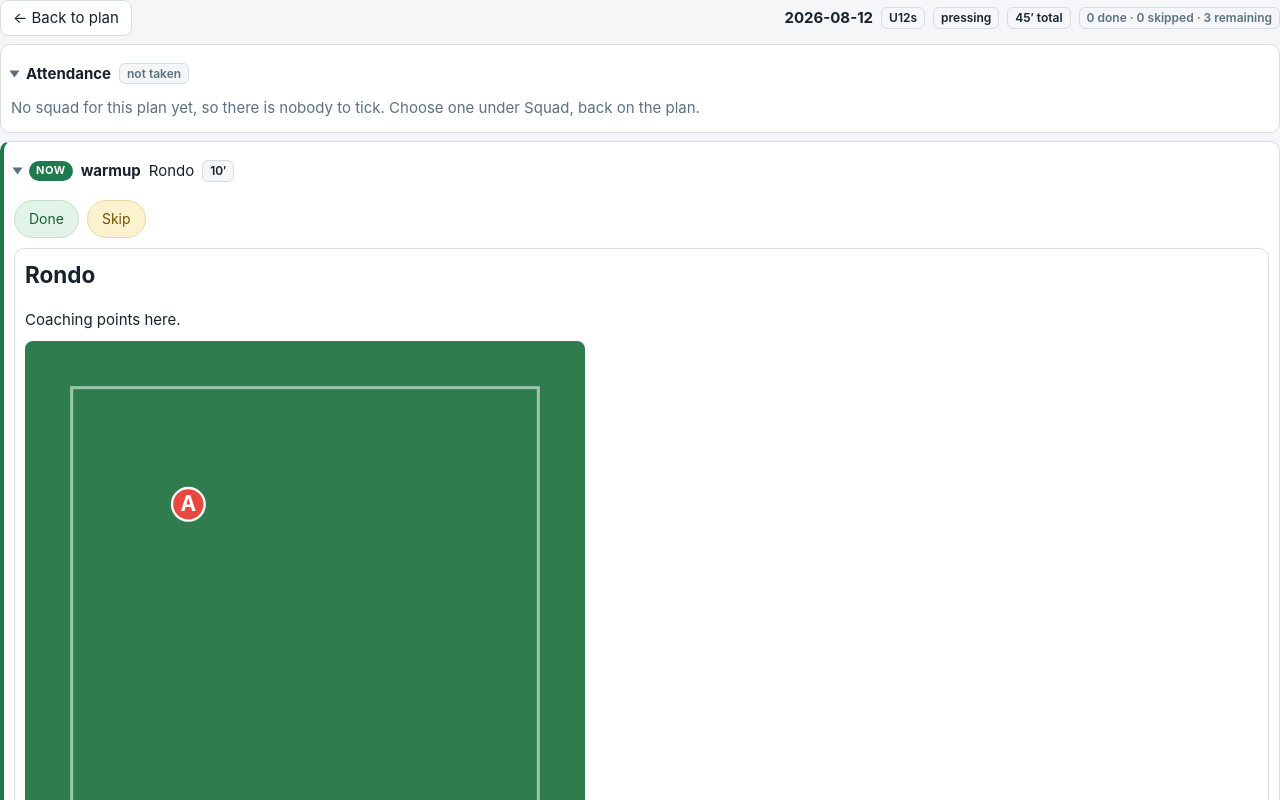
SessionRun accordion (interactive) › reopening a settled block makes it current again
This screenshot has width=1280, height=800.
Click the button "Done" at coordinates (46, 219), box [14,200,79,238]
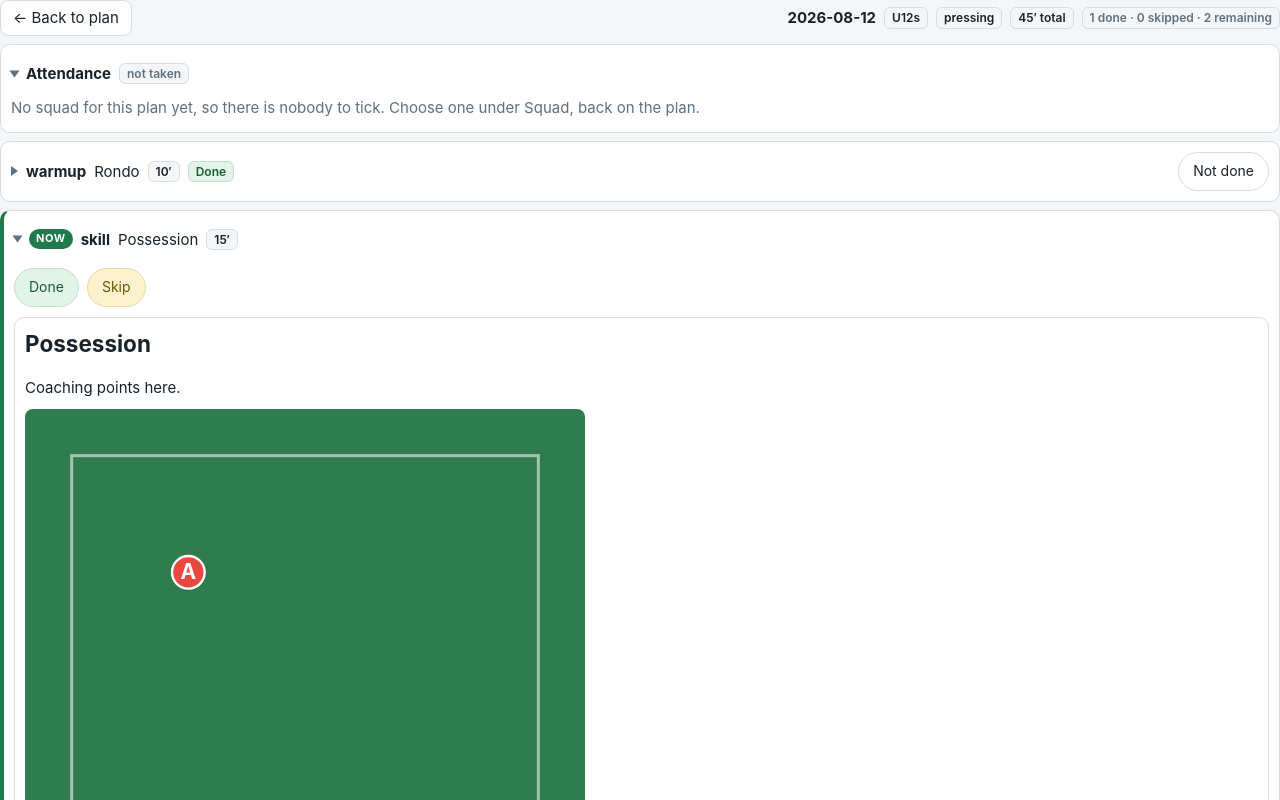
Click the button "Not done" at coordinates (1224, 171), box [1178,152,1269,191]
(page scrolled)
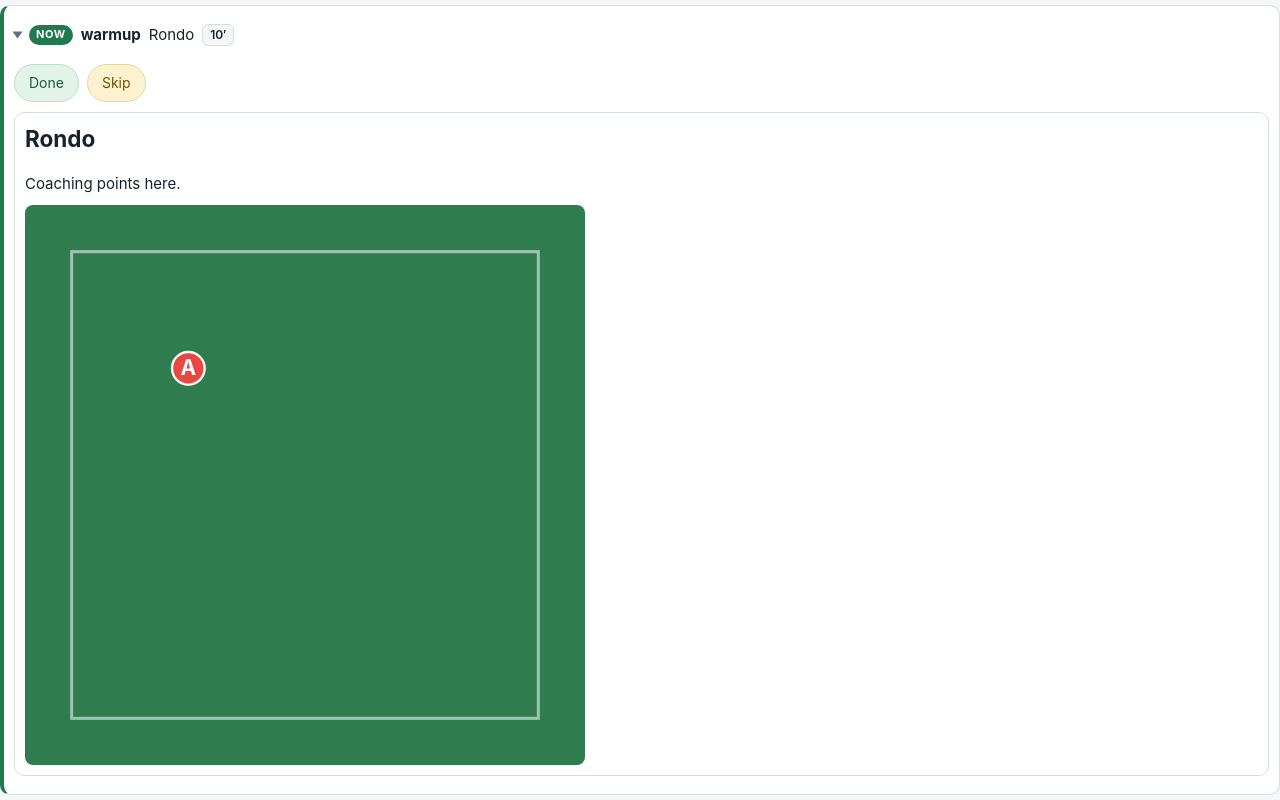
Check: the element with class "run-block" shows "Coaching points here", box [25,174,180,193]
